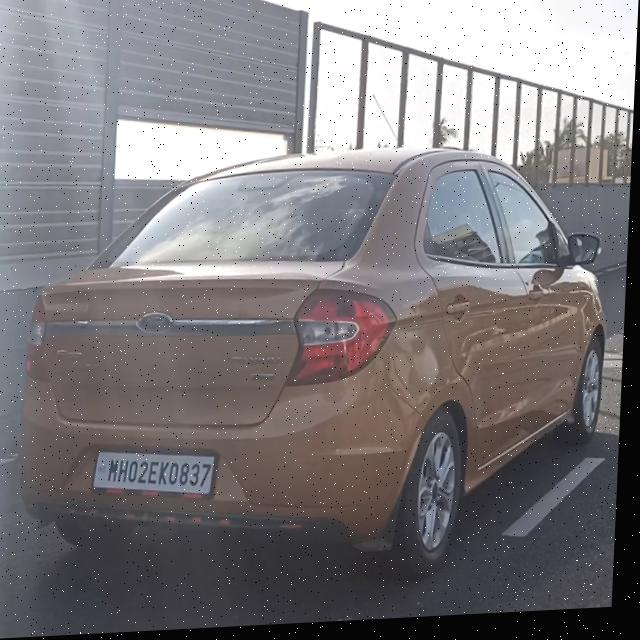plate: (93, 448, 225, 509)
